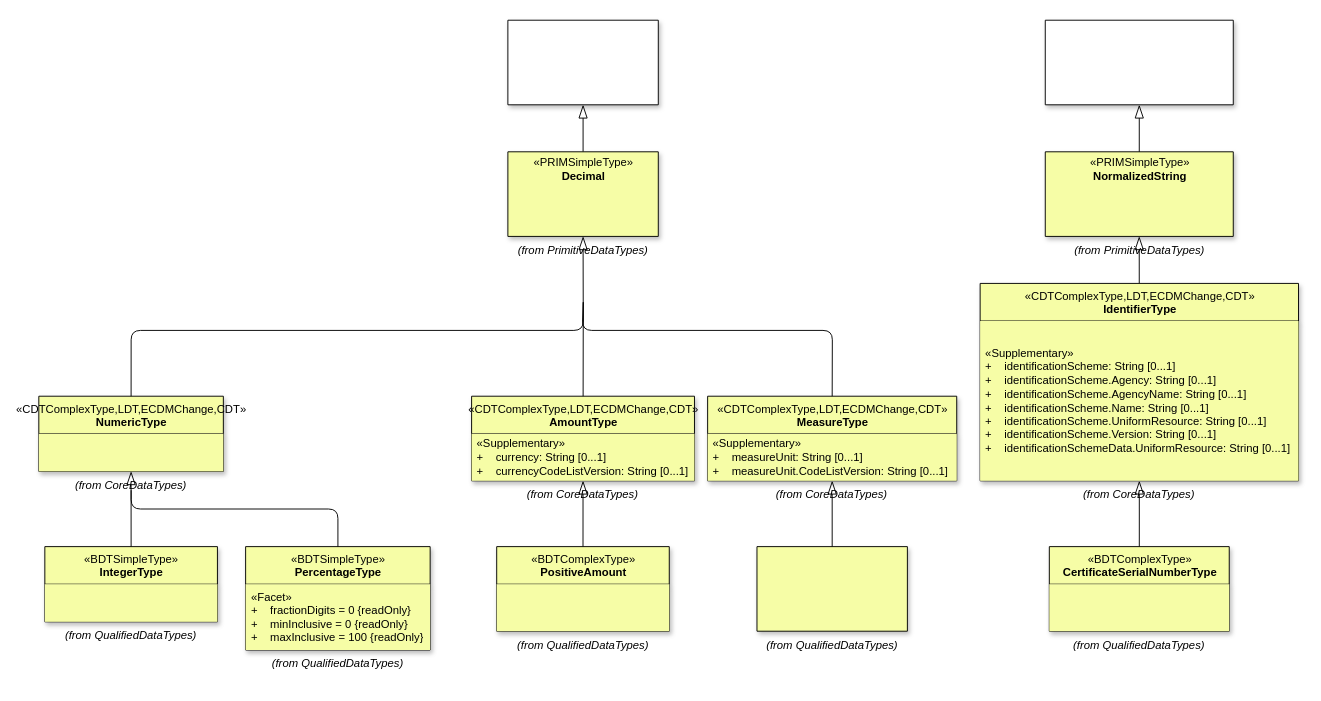
Image size: 1321x701. Some labels were removed from this diagram. The shapes that lost their labels are listed below. From the top down, each one's centre as x and y in pixels, then its label:
[583,63]: anySimpleType « XSDsimpleType » XSDDatatypes::decimal
[1140,63]: string « XSDsimpleType » XSDDatatypes::normalizedString
[132,454]: « Supplementary » + format: String [0...1]
[132,604]: « Facet » + fractionDigits = 0 {readOnly}
[583,608]: « Facet » + fractionDigits = 0 {readOnly} + minInclusive = 0 {readOnly}
[832,590]: « BDTComplexType » PowerType
[1139,608]: « Facet » + maxLength = 20 {readOnly}
